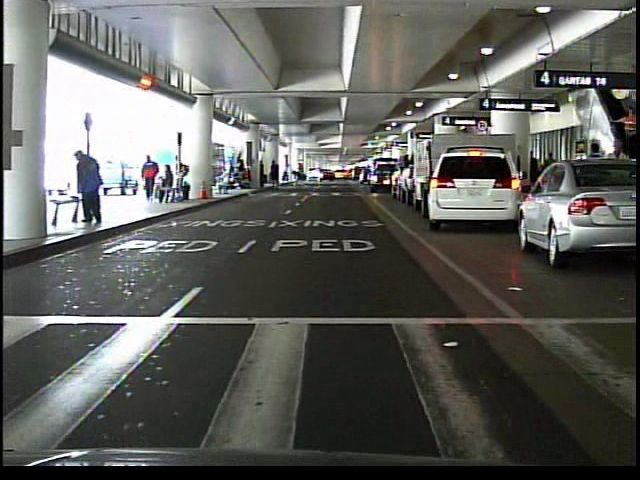person: (72, 149, 107, 226), (216, 168, 233, 203), (289, 163, 304, 192)
